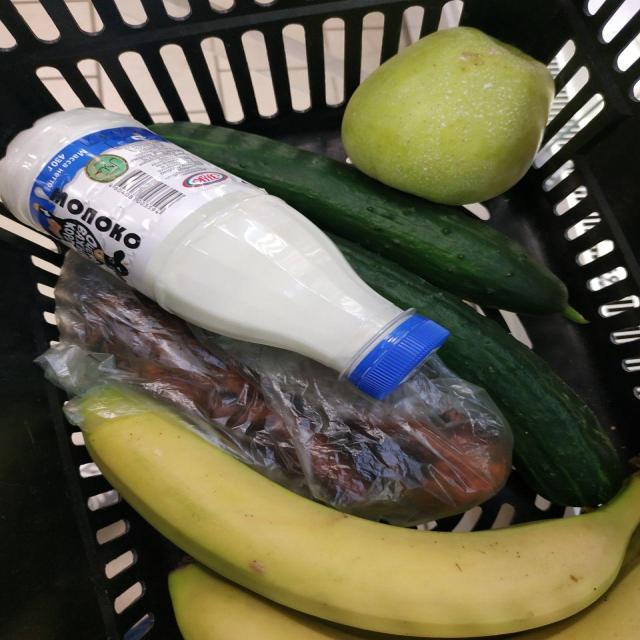Apple: (342, 26, 555, 205)
Banana: (67, 388, 640, 637), (168, 564, 428, 640), (477, 530, 640, 639)
Carrot: (72, 308, 312, 496), (360, 451, 507, 524)
Cucumber: (152, 122, 568, 314), (330, 235, 622, 506)
Milk: (2, 109, 447, 396)
